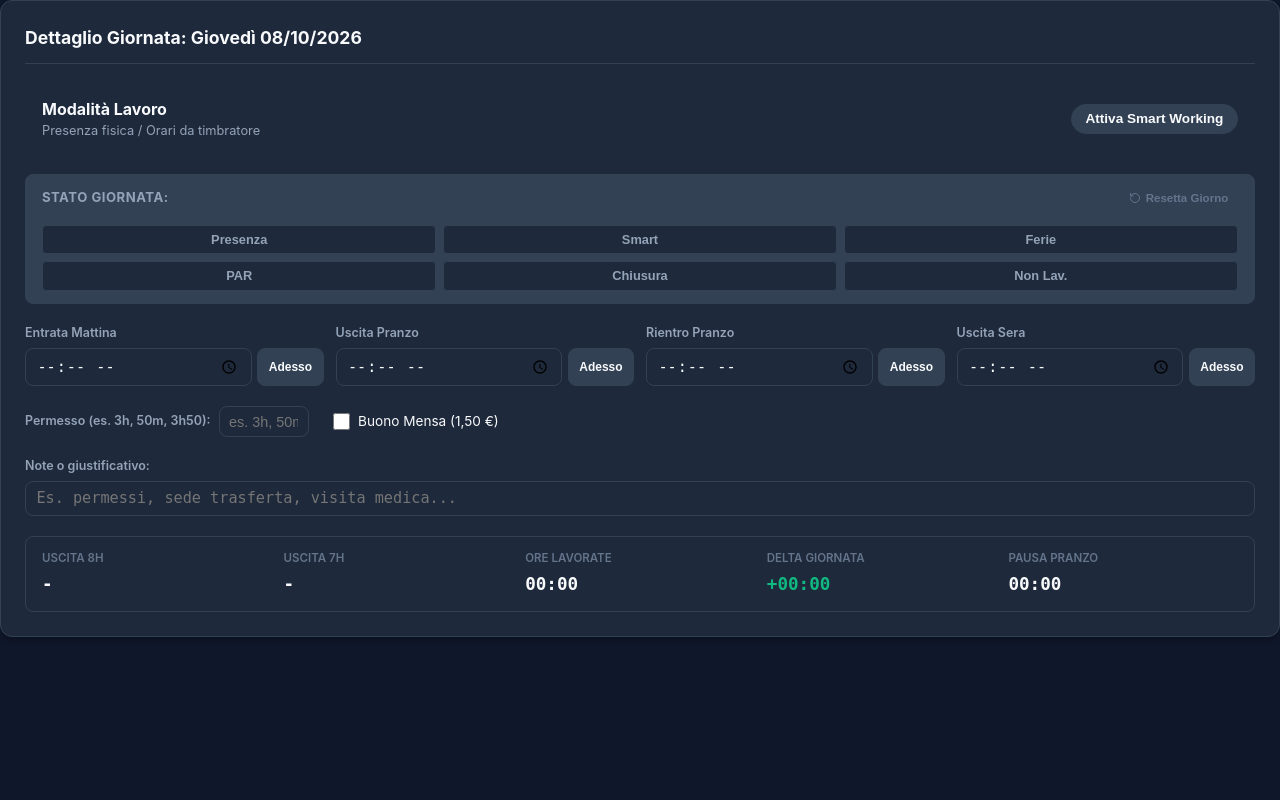
Scenario: DayDetailCard Feature › toggling Smart Working sets isSmartWork: true with 8h nominal and 0 delta
What coordinates should you click on to do the following:
click the button with test id "toggle-smart-work"
I would click on:
 (1154, 119)
Its box is [1071,104,1238,134].
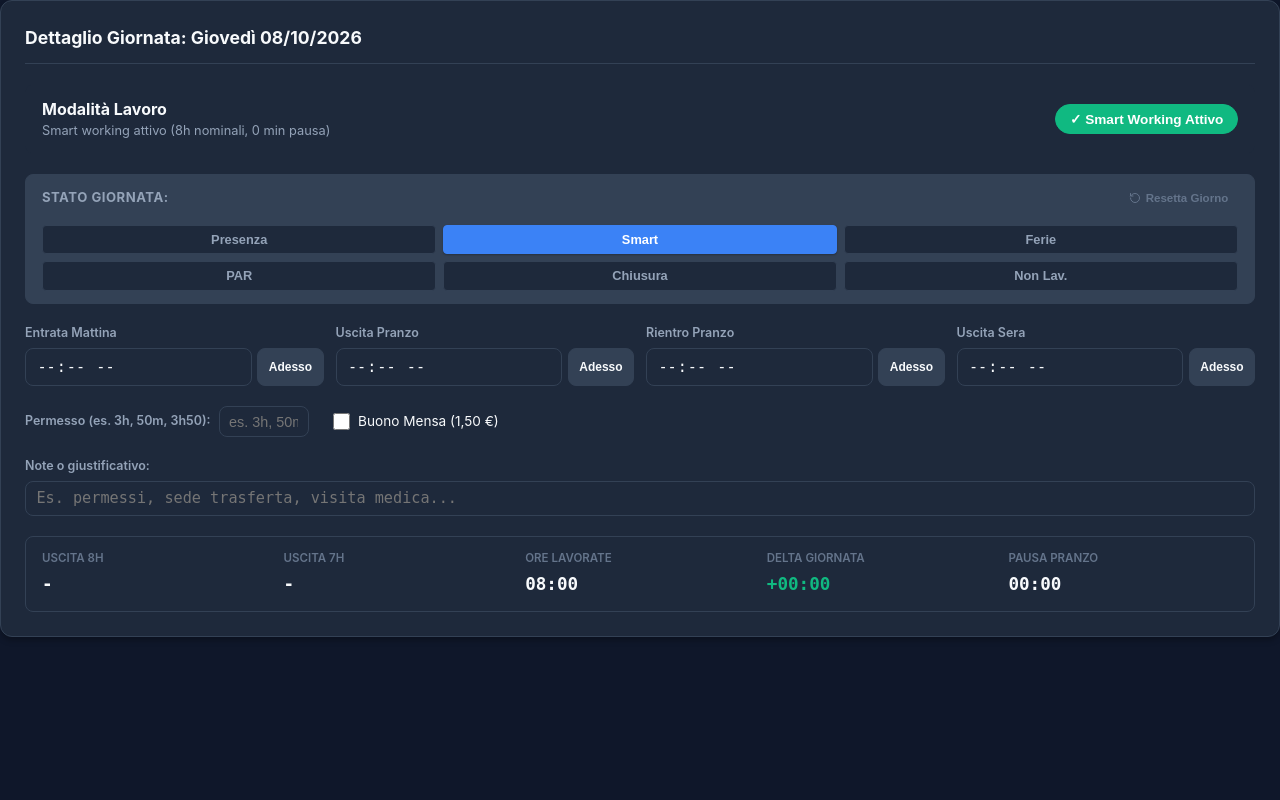
Expected: the text with test id "detail-delta" reads "+00:00", [767,574,830,594]
Expected: the text with test id "detail-worked-time" reads "08:00", [525,574,578,594]
